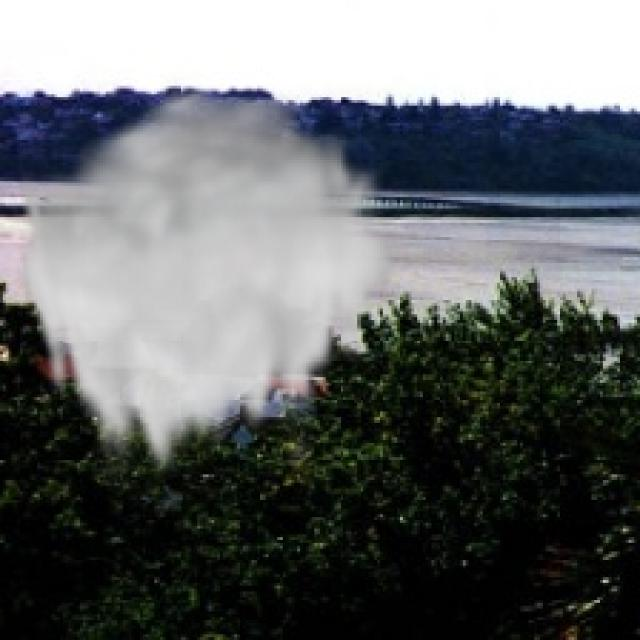smoke: (14, 80, 403, 486)
